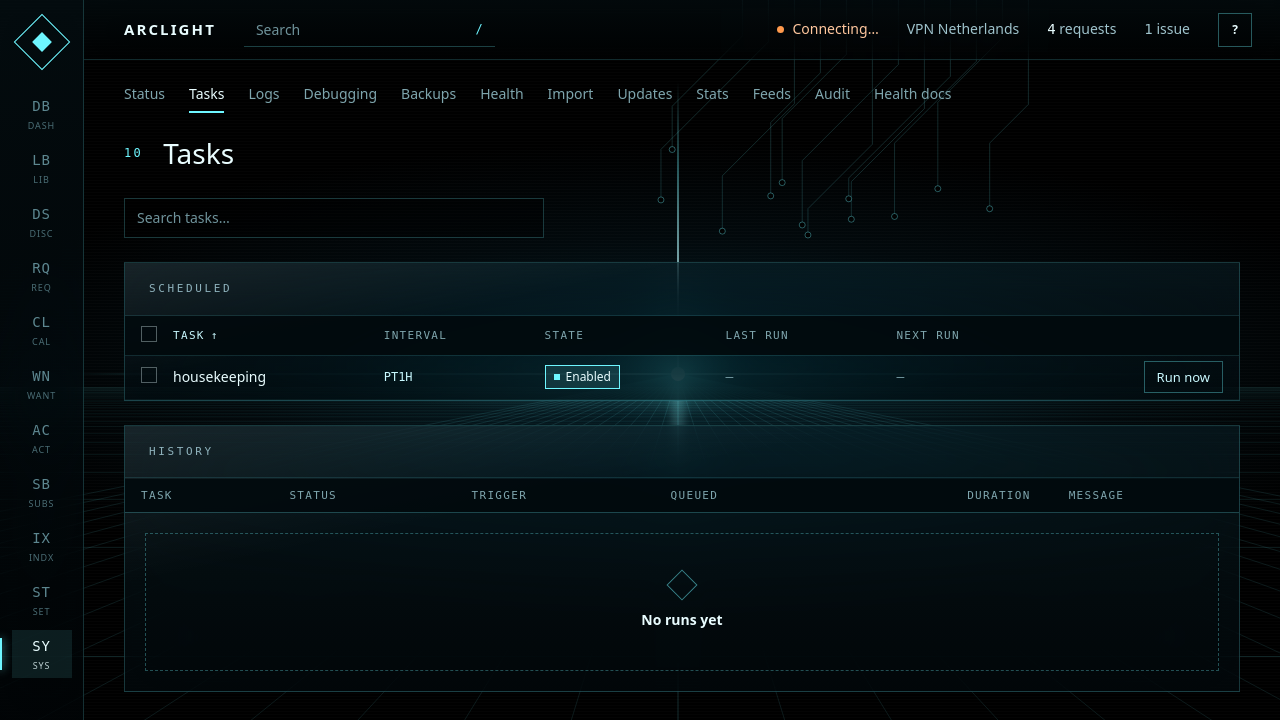
app shell › shows an error toast when running a task fails
The width and height of the screenshot is (1280, 720).
Click the button "Run now": coordinates (1183, 377) [1144,361,1223,393]
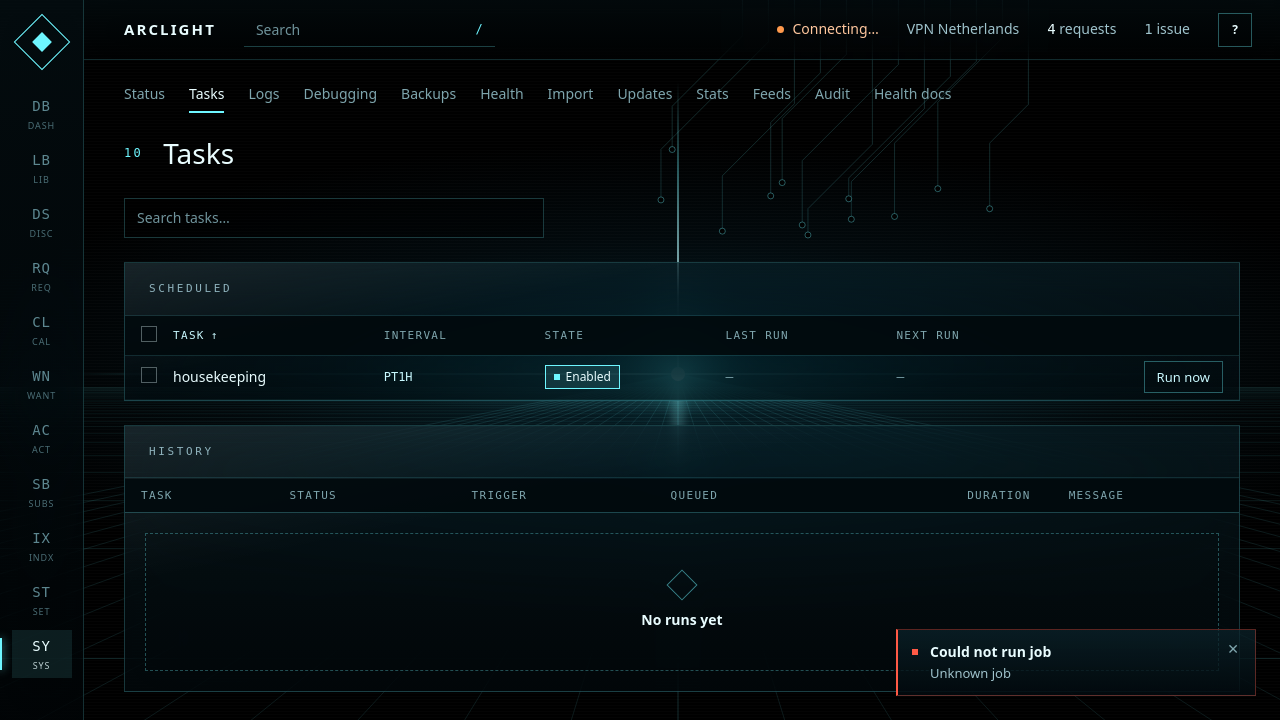
Now the message "Could not run job Unknown job ✕" is shown, box [896,629,1256,696]
